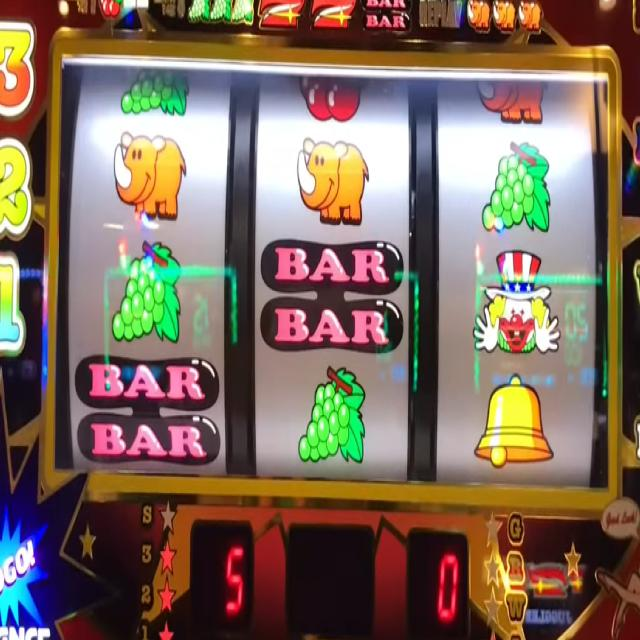bar: (262, 236, 401, 351), (75, 354, 218, 462), (362, 0, 408, 32)
bell: (472, 374, 552, 472)
cherry: (296, 76, 362, 120), (99, 0, 121, 17)
clown: (471, 248, 561, 353)
display: (57, 52, 609, 496)
elephant: (112, 132, 186, 218), (297, 137, 368, 224), (474, 80, 547, 123), (493, 0, 516, 32), (519, 0, 542, 31), (466, 2, 489, 31)
grape: (112, 240, 180, 344), (298, 366, 367, 463), (482, 142, 550, 233), (121, 68, 190, 115), (234, 0, 252, 23), (189, 0, 209, 19), (212, 0, 229, 22)
z: (257, 0, 303, 29), (312, 2, 354, 29)
